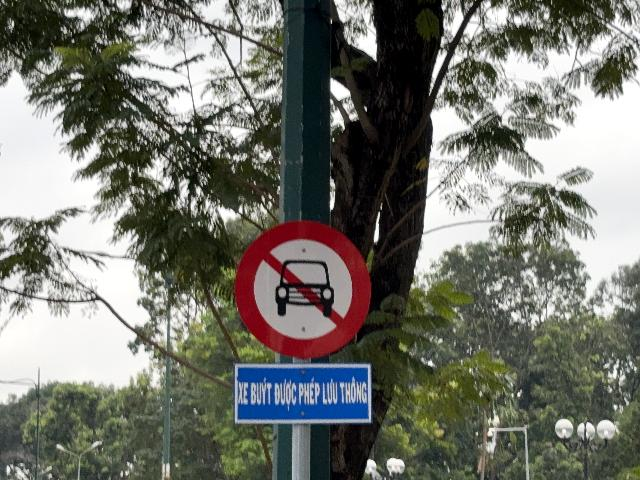cam-o-to: (234, 220, 371, 358)
